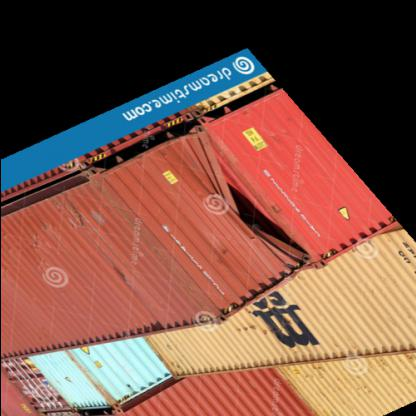Damage: (216, 152, 298, 270)
